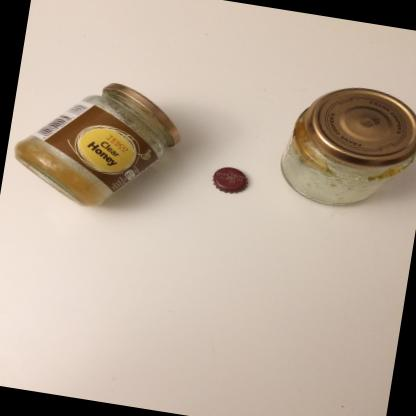Glass: (14, 83, 180, 206), (280, 88, 416, 205)
Metal: (304, 87, 416, 168), (103, 83, 180, 147), (212, 167, 248, 193)
